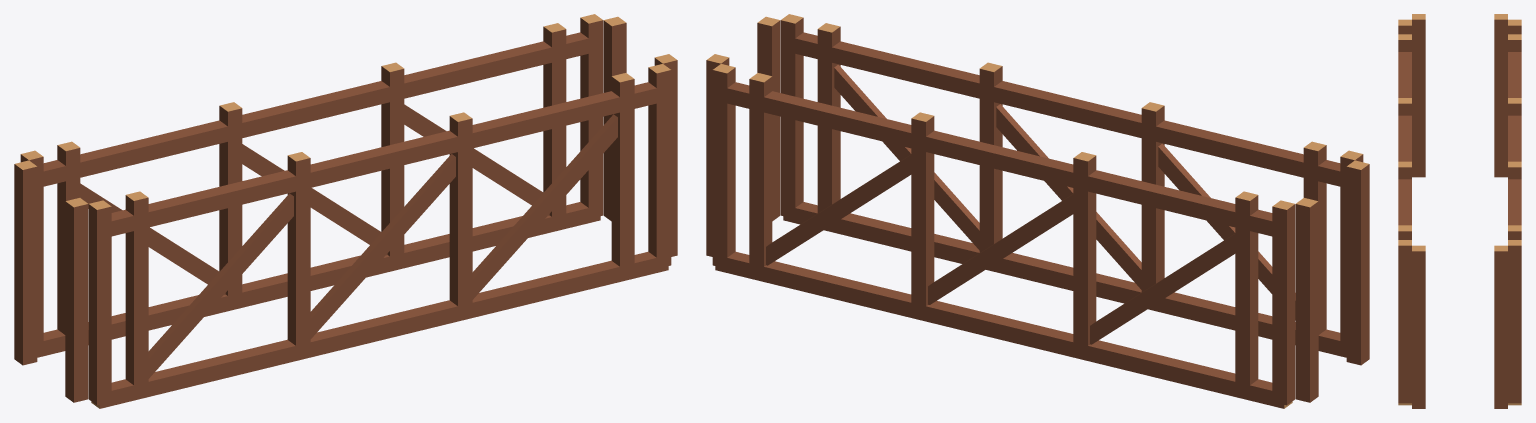
Rendered from Scaffold Gate.fbx.
The picture shows the model from 3 angles, left to right: view 1: azimuth 30°, elevation 25°; view 2: azimuth 150°, elevation 25°; view 3: azimuth 270°, elevation 25°; orthographic projection. The views are drawn at different scales.
Parts seen in each view (by area): view 1: Scaffold_Gate; view 2: Scaffold_Gate; view 3: Scaffold_Gate.
Part boxes in pixels (x1,y1,x2,y2): Scaffold_Gate: (14, 14, 677, 408); Scaffold_Gate: (706, 14, 1369, 408); Scaffold_Gate: (1398, 14, 1521, 408).
Bounding box in the file's own units: 4.1 × 1.29 × 0.899.
1 material, 1 textured.
